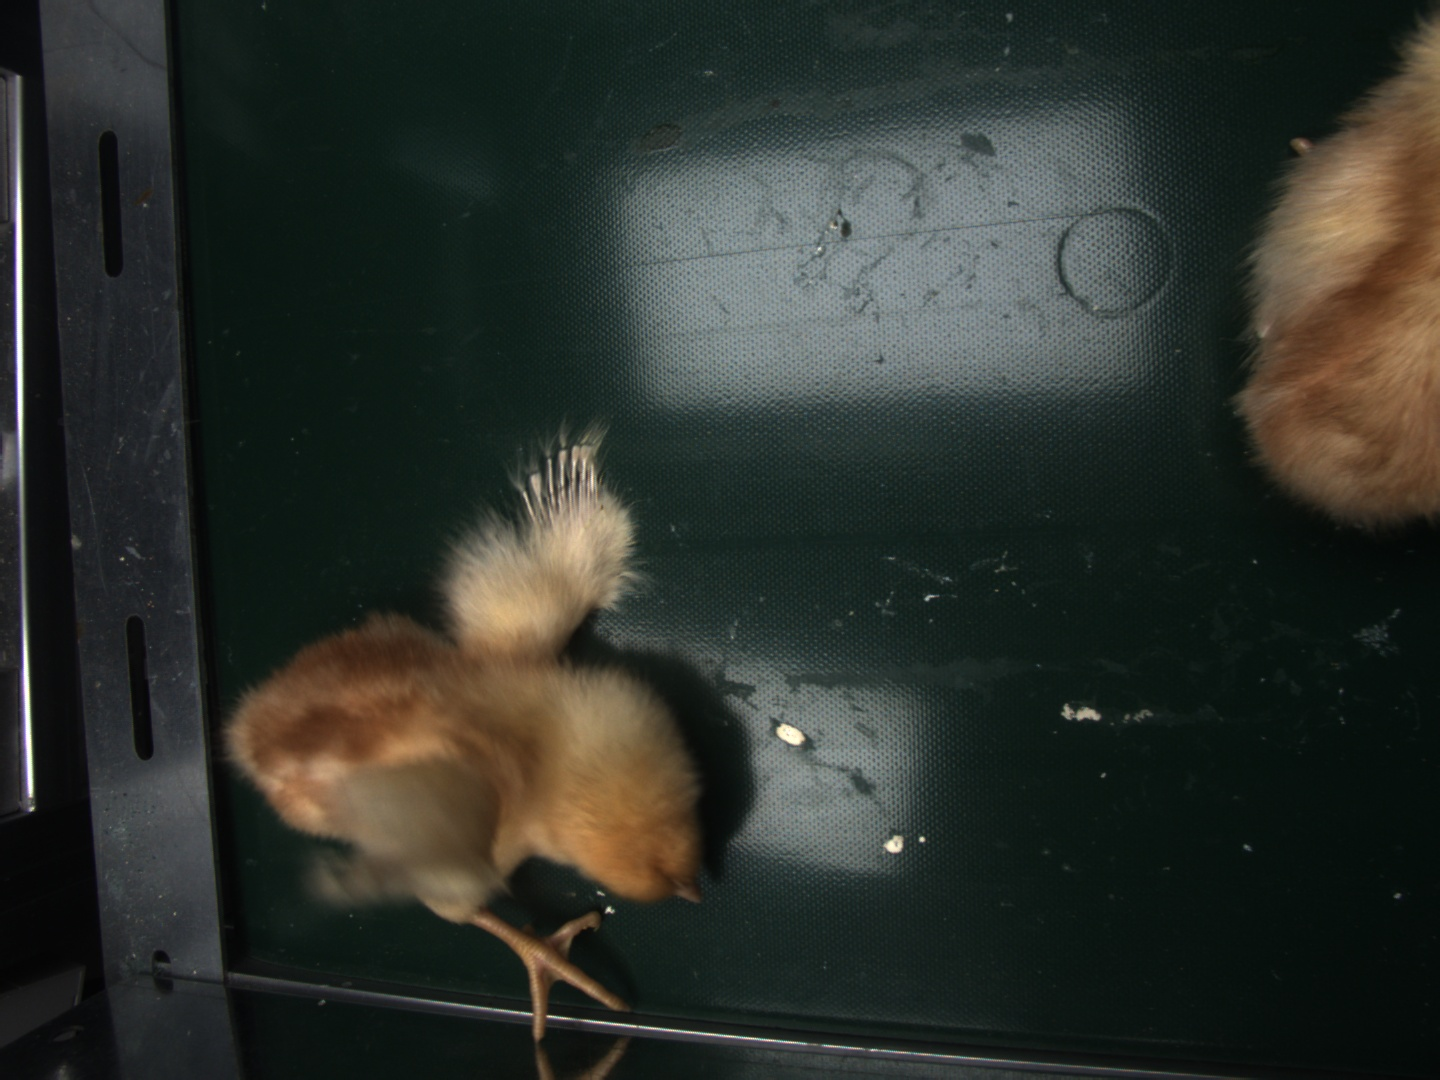female: (525, 445, 604, 528)
